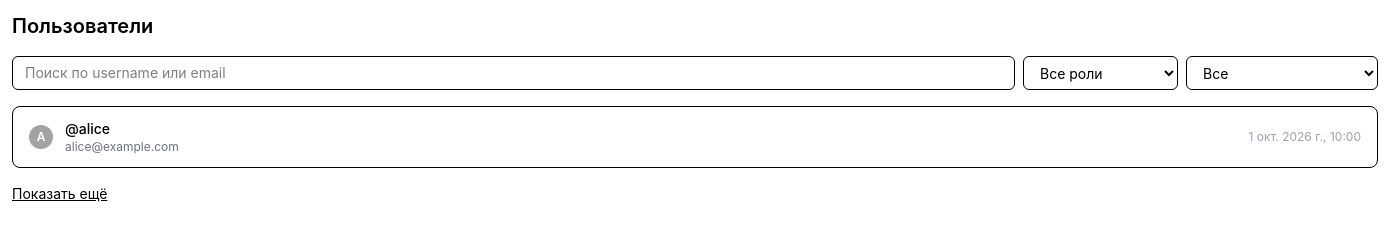
Test: AdminUsersPage › «Показать ещё» подгружает следующую страницу по курсору
Expected: the text "@alice" is shown, [65,119,110,139]
What coordinates should you click on to do the following:
click the button "Показать ещё"
I would click on:
 (60, 194)
Its box is [12,184,107,204].
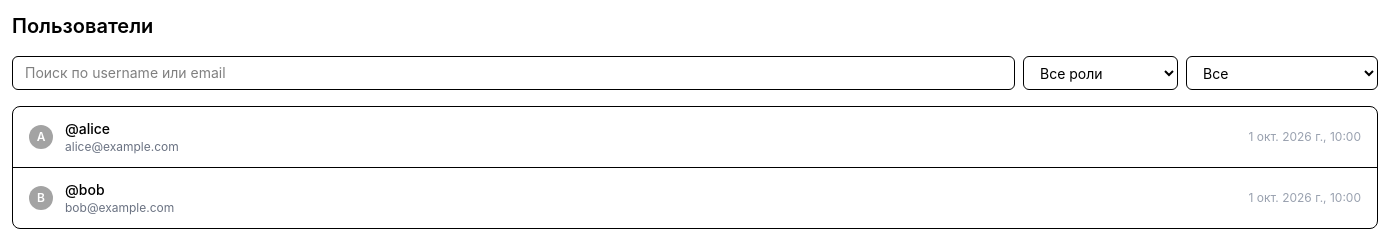
Expected: the text "@alice" is shown, [65,119,110,139]
Now the text "@bob" is shown, box [65,180,104,200]
Now the button "Показать ещё" is gone
